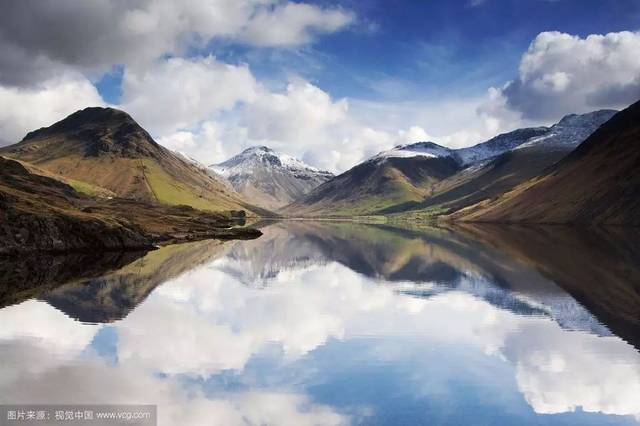mountain: (29, 92, 601, 296)
